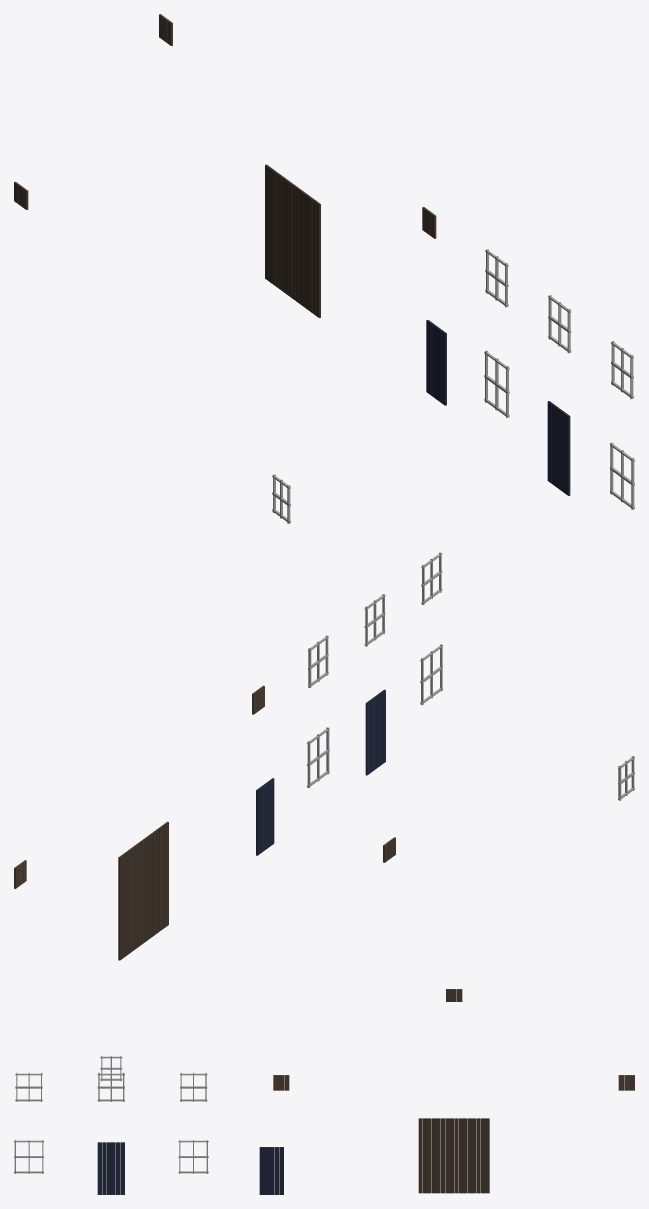
File: SM_Bld_015_Wood.glb
The picture shows the model from 3 angles, top to bottom: view 1: azimuth 30°, elevation 25°; view 2: azimuth 150°, elevation 25°; view 3: azimuth 270°, elevation 25°; orthographic projection. The views are drawn at different scales.
Visible parts, largest first — view 1: SM_Bld_015_Wood; view 2: SM_Bld_015_Wood; view 3: SM_Bld_015_Wood.
Boxes of the visible parts, x1,y1,x2,y2 form: SM_Bld_015_Wood: [14, 14, 634, 523]; SM_Bld_015_Wood: [14, 552, 634, 960]; SM_Bld_015_Wood: [14, 989, 634, 1194].
Size of the model in its own units: 7.74 by 4.9 by 22.65.
